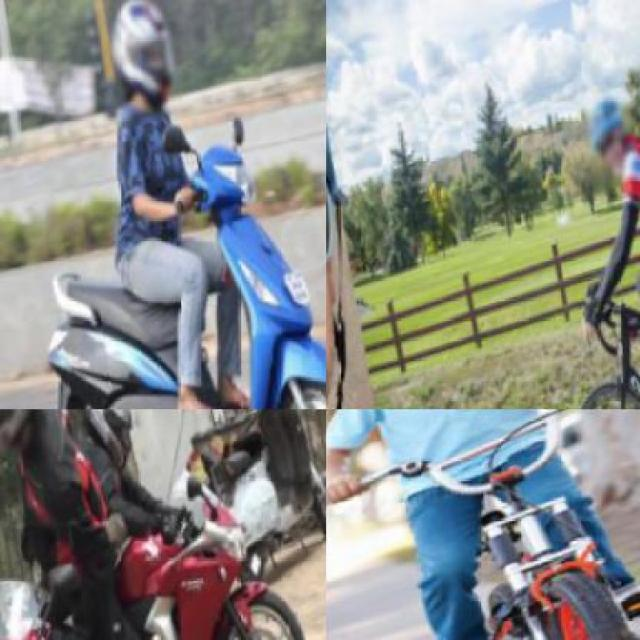With Helmet: (326, 0, 390, 372), (95, 0, 194, 137), (576, 92, 638, 205), (74, 409, 149, 491), (0, 409, 60, 474)
